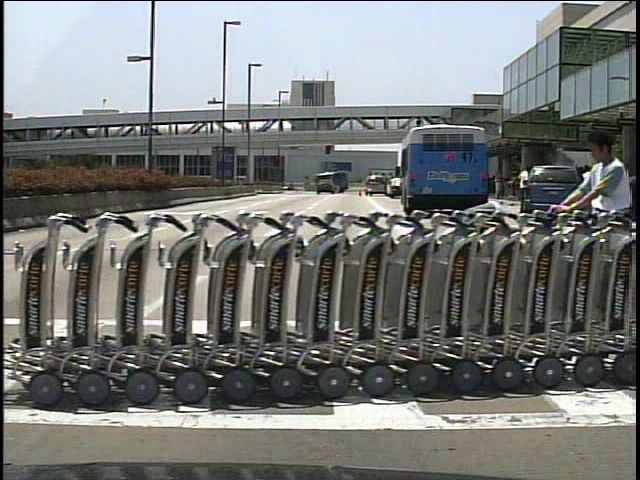person: (563, 125, 635, 355), (571, 164, 591, 225), (580, 165, 601, 214), (512, 162, 531, 212)
